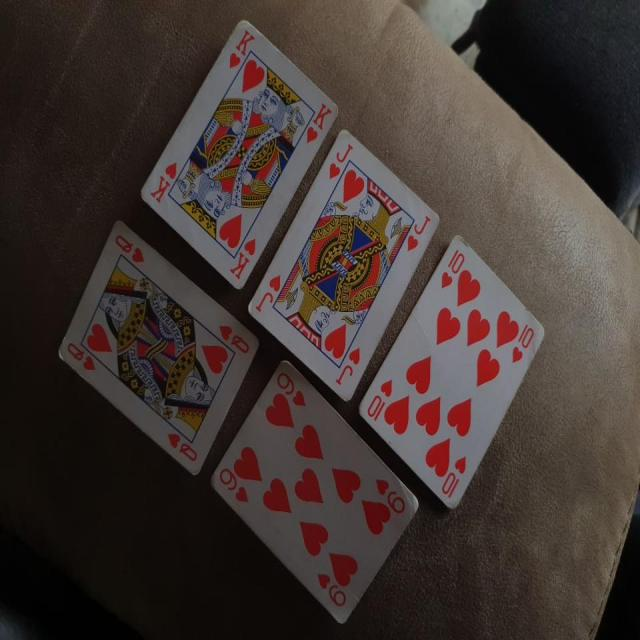10 Hearts: (352, 225, 549, 518)
9 Hearts: (190, 353, 427, 622)
J Hearts: (240, 122, 437, 405)
K Hearts: (131, 11, 342, 295)
Q Hearts: (50, 215, 260, 485)
